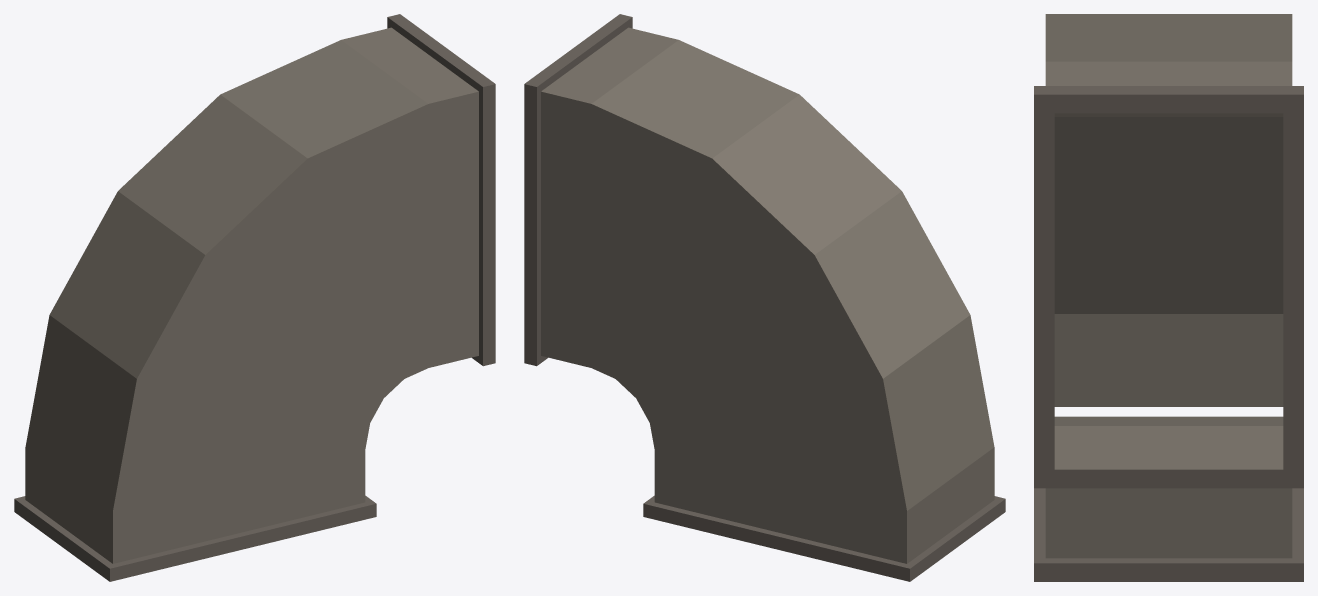
The model's file is SM_Props_Roof_Vent_Bend_02.fbx.
3 renders of one model, left to right at view 1: azimuth 30°, elevation 25°; view 2: azimuth 150°, elevation 25°; view 3: azimuth 270°, elevation 25°, orthographic. The views are drawn at different scales.
Parts seen in each view (by area): view 1: SM_Props_Roof_Vent_Bend_02; view 2: SM_Props_Roof_Vent_Bend_02; view 3: SM_Props_Roof_Vent_Bend_02.
Boxes of the visible parts, x1,y1,x2,y2 form: SM_Props_Roof_Vent_Bend_02: [14, 14, 495, 581]; SM_Props_Roof_Vent_Bend_02: [524, 14, 1005, 581]; SM_Props_Roof_Vent_Bend_02: [1034, 14, 1303, 581].
Size of the model in its own units: 153 by 153 by 65.66.
